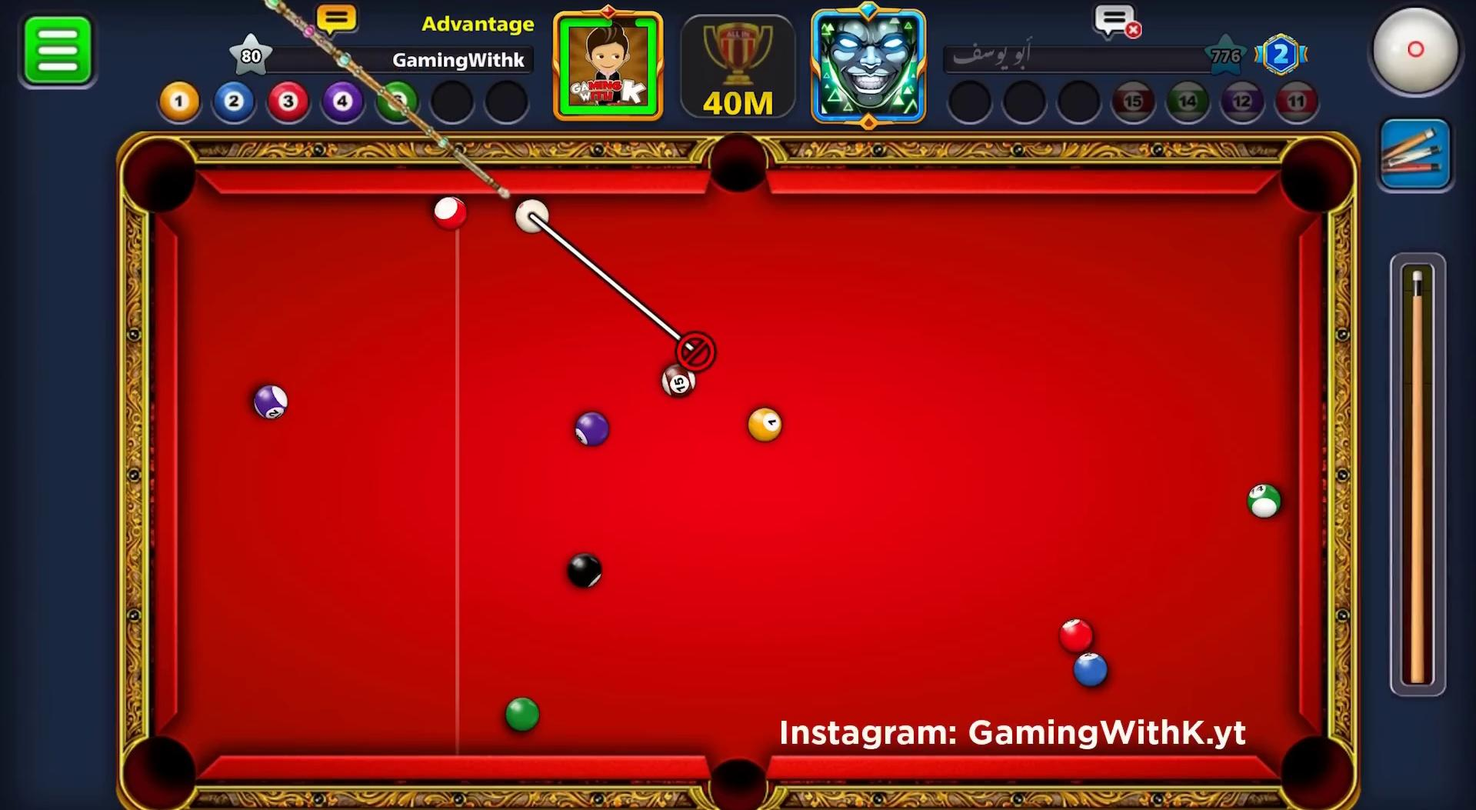Ball: (555, 546, 611, 594), (245, 375, 295, 426), (498, 689, 547, 739), (566, 405, 615, 452), (422, 192, 471, 232), (1055, 612, 1100, 653), (745, 400, 786, 445), (656, 360, 698, 402), (1246, 478, 1284, 522)
Force: (1391, 253, 1449, 705)
Guideline: (521, 205, 707, 367), (675, 330, 717, 373)
Hole: (100, 122, 219, 236), (1266, 122, 1364, 228), (1271, 722, 1365, 809), (695, 125, 779, 215), (122, 733, 199, 808), (696, 743, 778, 809)
Play_Area: (177, 191, 1293, 754)
Spin: (1363, 0, 1475, 106)
White: (507, 195, 553, 235)
